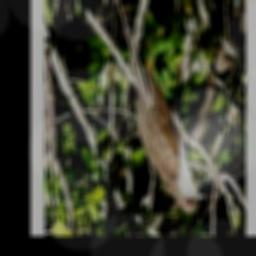Cuckoo: (118, 0, 207, 215)
